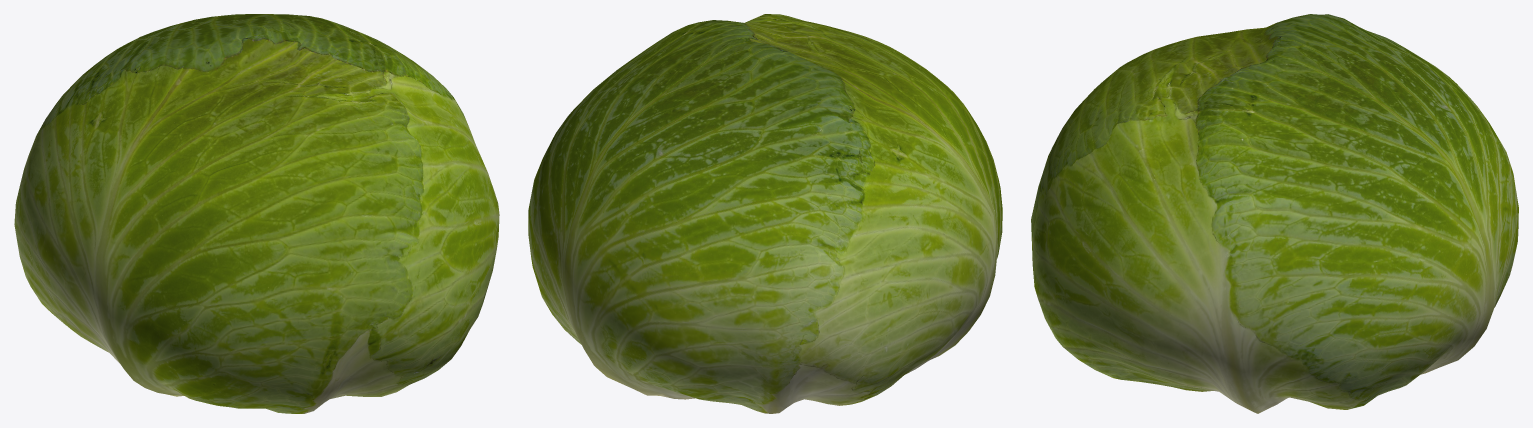
Rendered from одежда новорожденного.fbx.
3 renders of one model, left to right at view 1: azimuth 30°, elevation 25°; view 2: azimuth 150°, elevation 25°; view 3: azimuth 270°, elevation 25°, orthographic.
Parts seen in each view (by area): view 1: Cabbage.001; view 2: Cabbage.001; view 3: Cabbage.001.
Part boxes in pixels (x1,y1,x2,y2): Cabbage.001: [14, 14, 499, 413]; Cabbage.001: [528, 14, 1002, 413]; Cabbage.001: [1031, 14, 1518, 413].
Bounding box in the file's own units: 54.67 × 42.83 × 56.63.
1 material, 1 textured.
